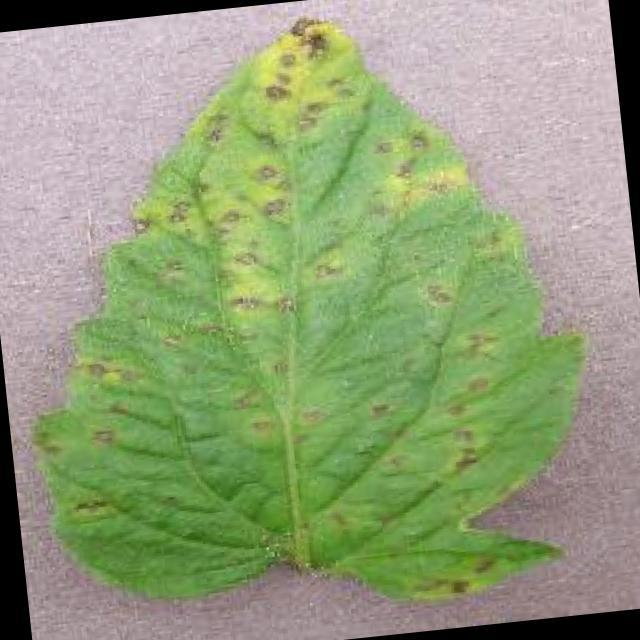Tomato Septoria spot leaf: (0, 0, 603, 636)
